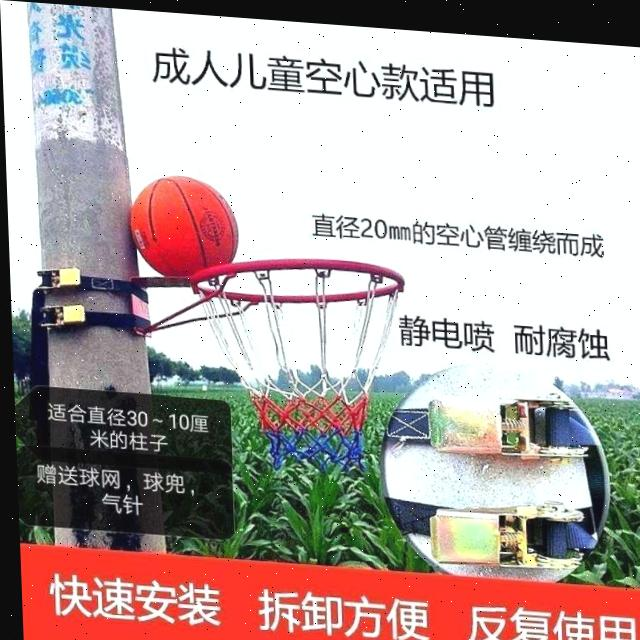basketball: (128, 172, 241, 280)
hoop: (199, 250, 411, 471)
